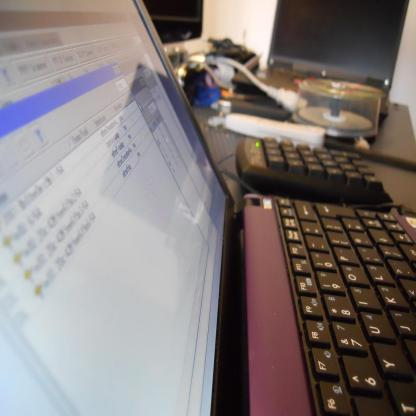board: (0, 0, 415, 415), (230, 0, 410, 118)
